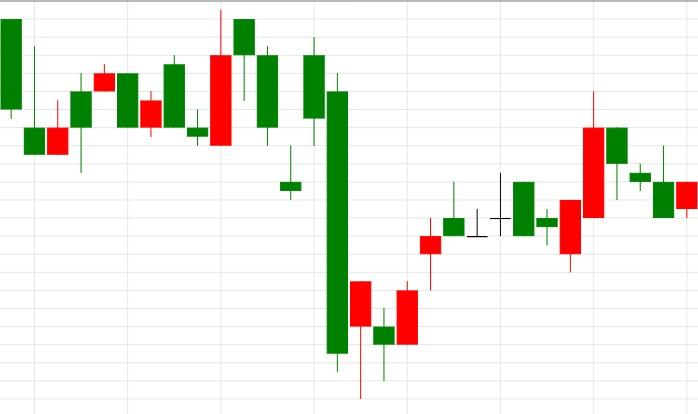bullish_engulfing_rise: (117, 9, 232, 146)
hammer_rise: (234, 19, 371, 399)
